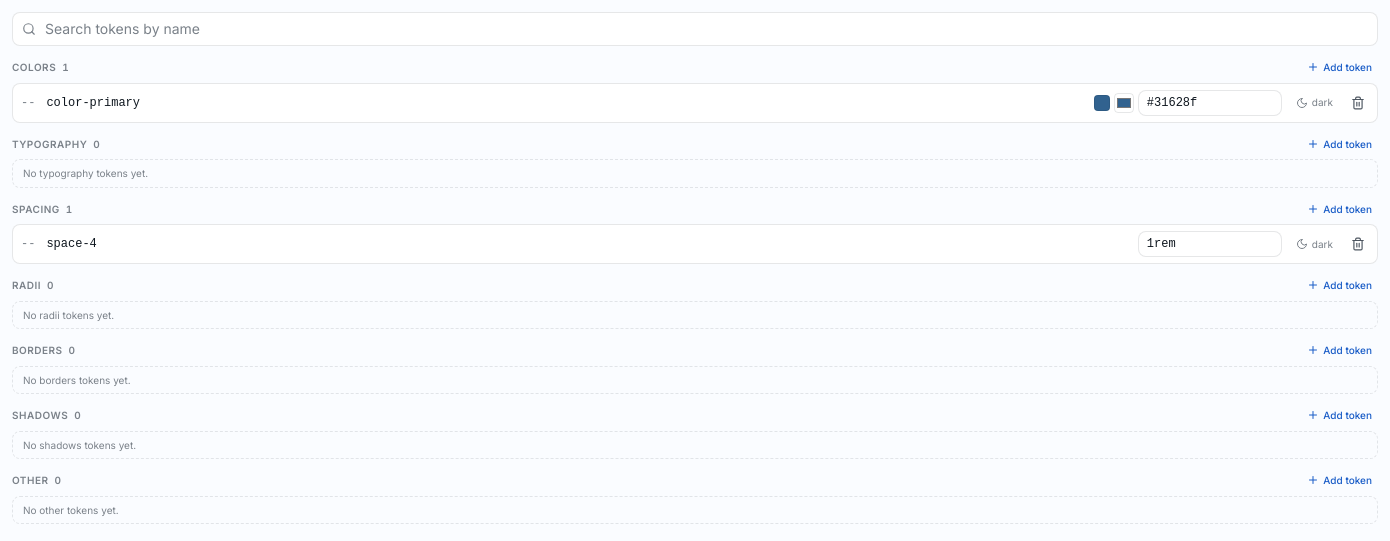
Test: TokenTableEditor › filters rows (and empty groups) by the search box
Type "space" into the field labelled "Search tokens". click: (695, 29)
box: [12,12,1378,46]
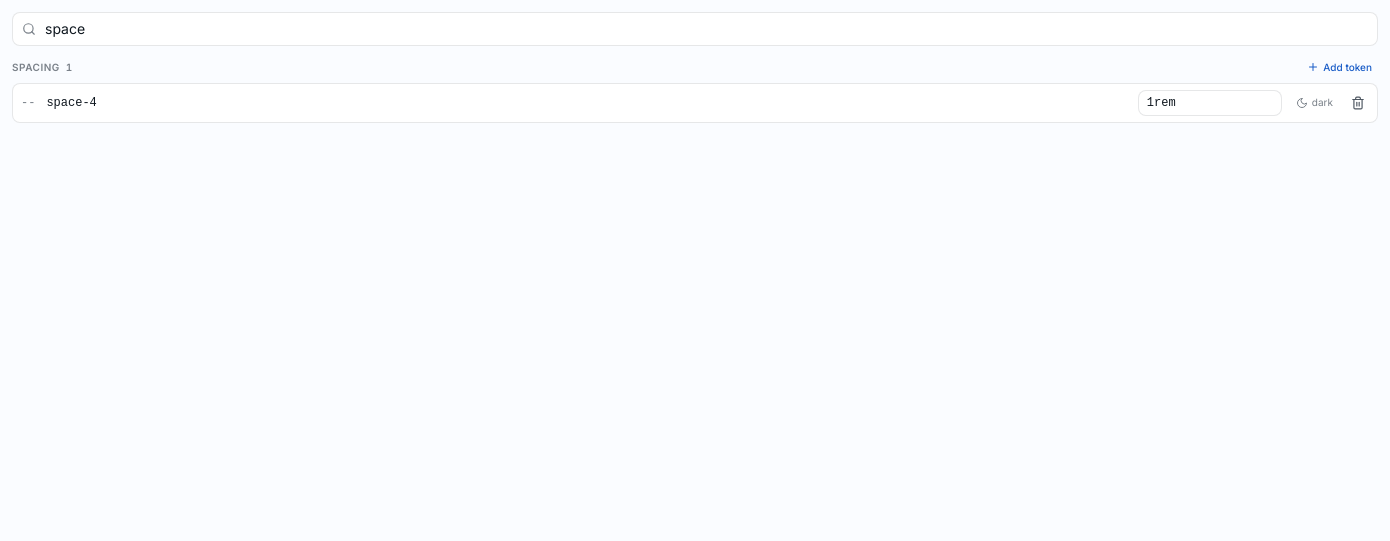
Check: the text "Spacing" is shown, box [12,61,60,73]
Check: the text "Colors" is gone
